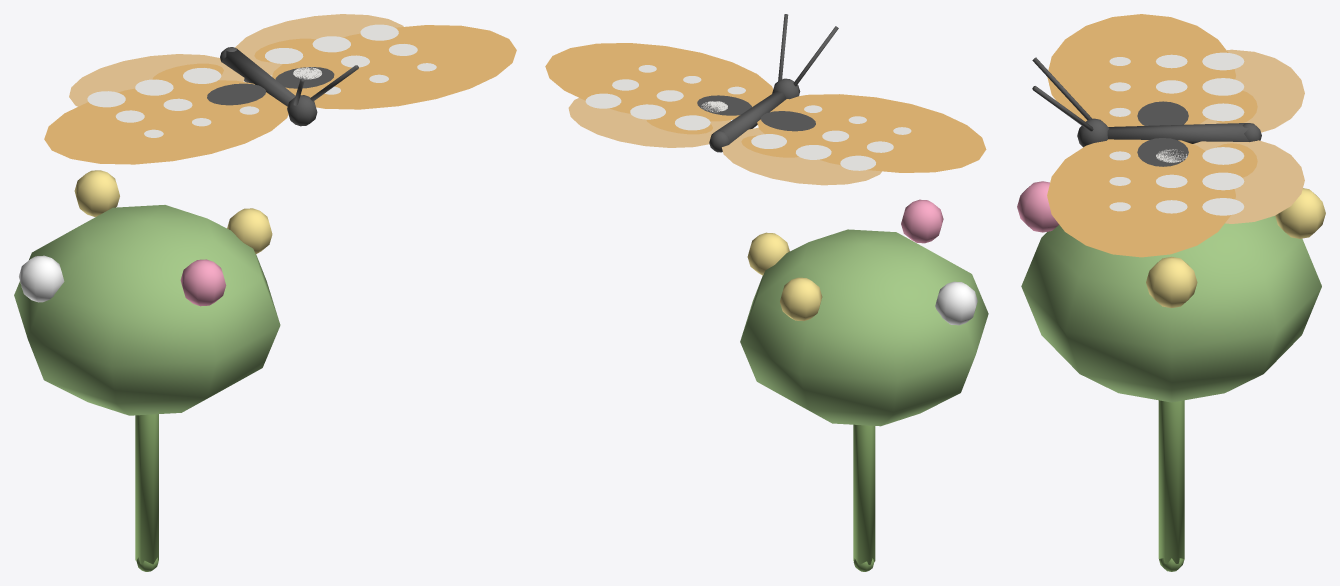
Rendered from plain-tiger.glb.
The picture shows the model from 3 angles, left to right: view 1: azimuth 30°, elevation 25°; view 2: azimuth 150°, elevation 25°; view 3: azimuth 270°, elevation 25°; orthographic projection. The views are drawn at different scales.
Visible parts, largest first — view 1: e, wingdisc, wingdisc.013, e.007; view 2: e, wingdisc, wingdisc.013, e.007; view 3: e, wingdisc.013, wingdisc, e.007.
Boxes of the visible parts, bbox=[...] form: e: bbox=[14, 170, 280, 571]; wingdisc: bbox=[44, 54, 288, 164]; wingdisc.013: bbox=[235, 14, 516, 109]; e.007: bbox=[220, 47, 358, 126]; e: bbox=[740, 199, 988, 571]; wingdisc: bbox=[722, 94, 986, 185]; wingdisc.013: bbox=[545, 43, 773, 147]; e.007: bbox=[709, 14, 838, 152]; e: bbox=[1017, 181, 1325, 571]; wingdisc.013: bbox=[1047, 138, 1304, 257]; wingdisc: bbox=[1047, 14, 1304, 132]; e.007: bbox=[1032, 57, 1261, 147].
Size of the model in its own units: 1.38 by 1.44 by 0.7187.
